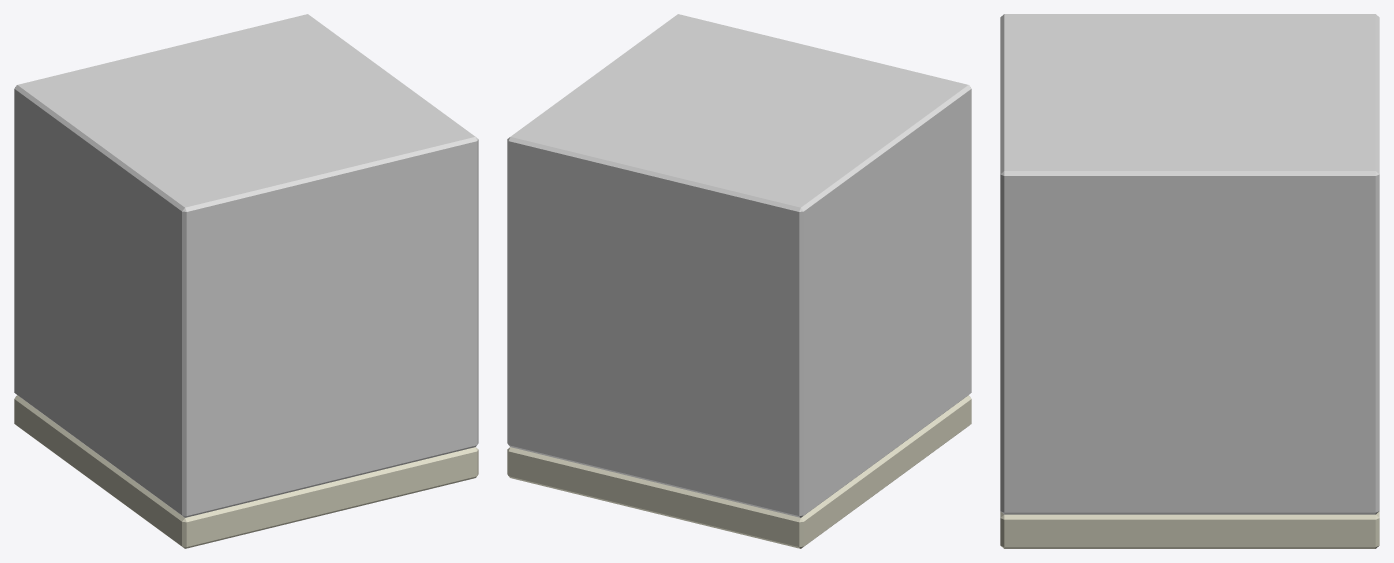
File: F_Wall.fbx
3 views of the same model, side by side, from view 1: azimuth 30°, elevation 25°; view 2: azimuth 150°, elevation 25°; view 3: azimuth 270°, elevation 25° (orthographic). The views are drawn at different scales.
Parts seen in each view (by area): view 1: pCube2, pCube1; view 2: pCube2, pCube1; view 3: pCube2, pCube1.
Part boxes in pixels (x1=…): pCube2: x1=14, y1=14, x2=478, y2=517; pCube1: x1=14, y1=395, x2=478, y2=548; pCube2: x1=507, y1=14, x2=971, y2=517; pCube1: x1=507, y1=395, x2=971, y2=548; pCube2: x1=1000, y1=14, x2=1379, y2=514; pCube1: x1=1000, y1=511, x2=1379, y2=548.
Size of the model in its own units: 2 by 2.2 by 2.
